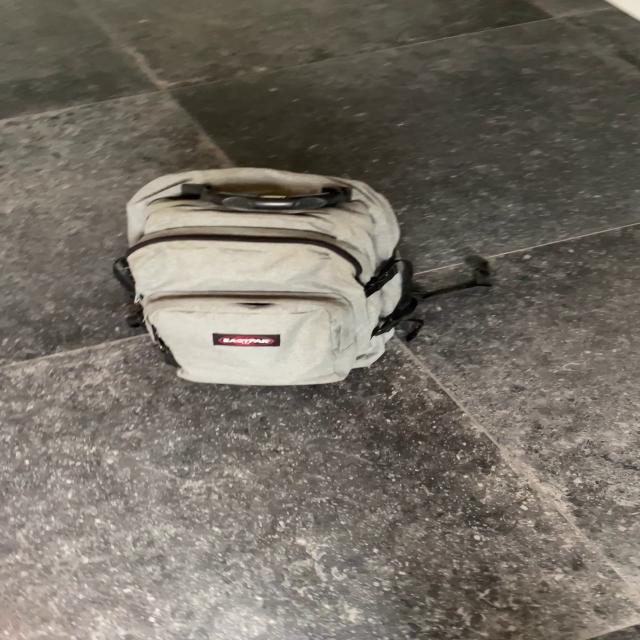backpack: (109, 159, 424, 393)
